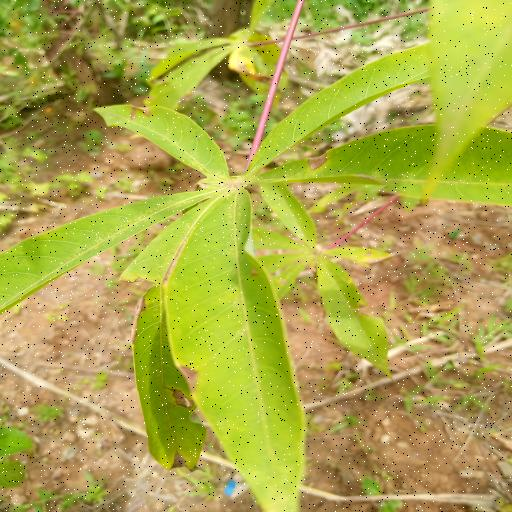Cassava_Brown_Leaf_Spot: (6, 36, 512, 509)
